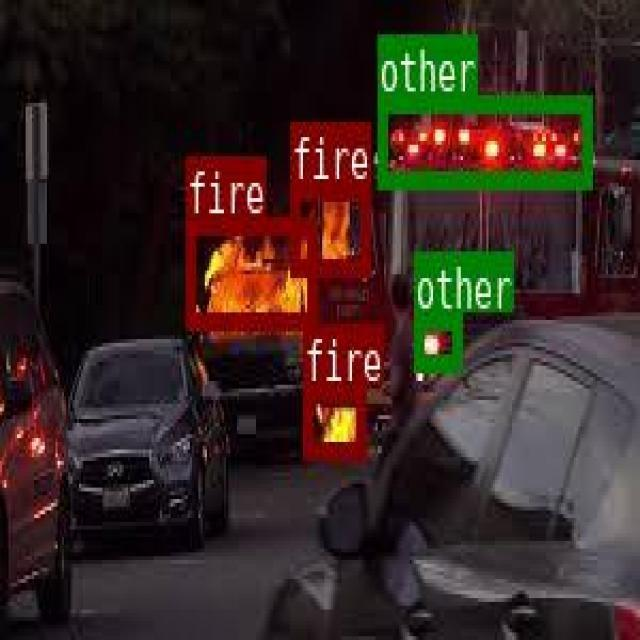fire: (185, 217, 315, 326), (289, 179, 368, 272), (303, 383, 364, 454)
